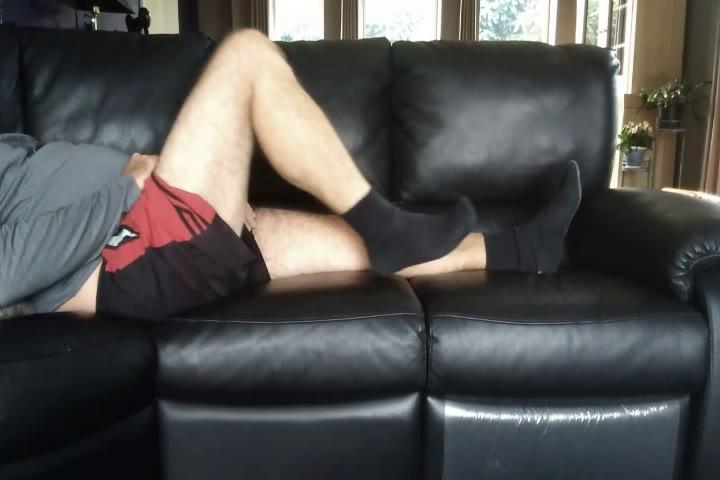lowerbody: (97, 21, 588, 329)
